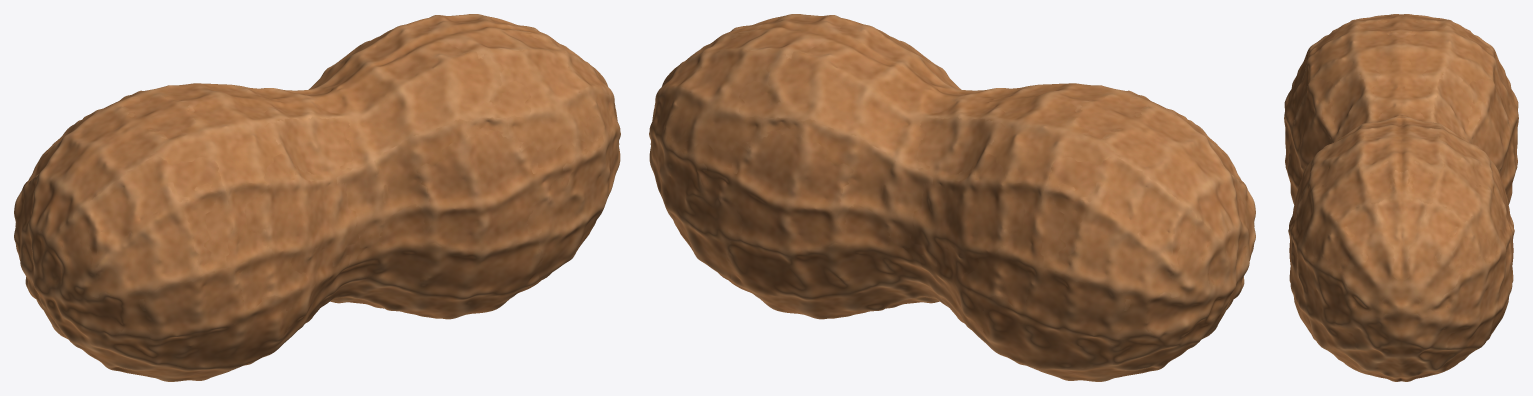
The model's file is lachi.fbx.
3 renders of one model, left to right at view 1: azimuth 30°, elevation 25°; view 2: azimuth 150°, elevation 25°; view 3: azimuth 270°, elevation 25°, orthographic. The views are drawn at different scales.
Visible parts, largest first — view 1: SketchfabPeanut; view 2: SketchfabPeanut; view 3: SketchfabPeanut.
Part boxes in pixels (left/top/right/bottom): SketchfabPeanut: left=14, top=14, right=620, bottom=381; SketchfabPeanut: left=649, top=14, right=1255, bottom=381; SketchfabPeanut: left=1284, top=14, right=1518, bottom=381.
Size of the model in its own units: 7191 by 3247 by 2985.
